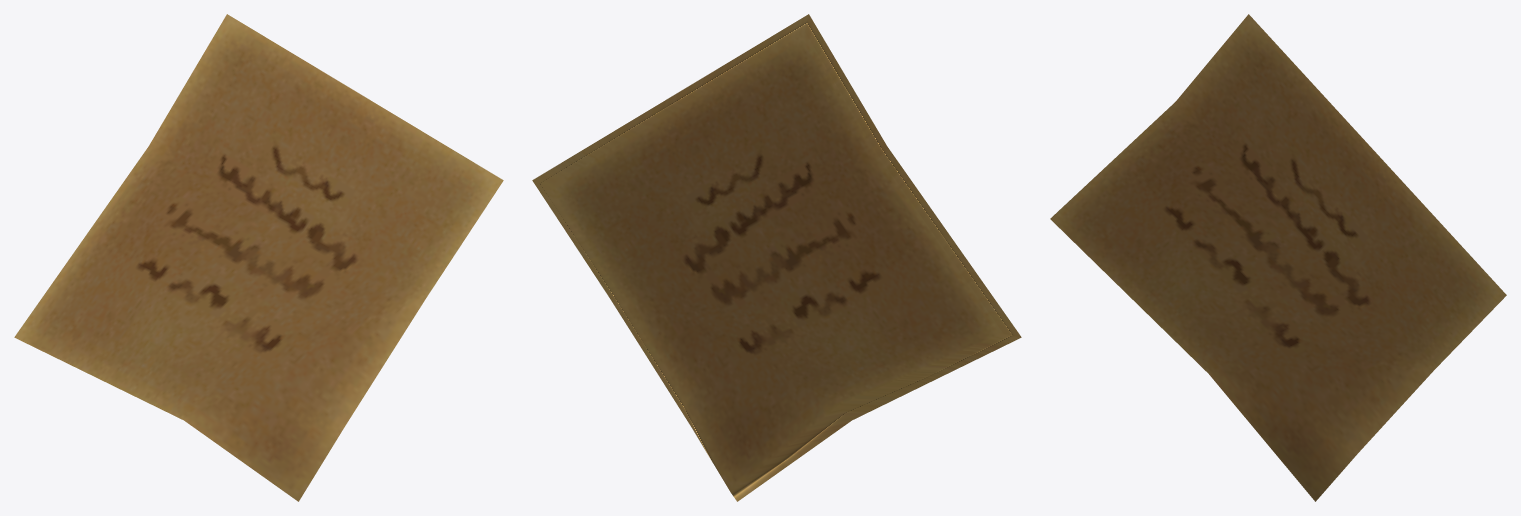
Rendered from PaperB.FBX.
The picture shows the model from 3 angles, left to right: view 1: azimuth 30°, elevation 25°; view 2: azimuth 150°, elevation 25°; view 3: azimuth 330°, elevation 25°; orthographic projection. The views are drawn at different scales.
Visible parts, largest first — view 1: pCube171__Paper00_AI; view 2: pCube171__Paper00_AI; view 3: pCube171__Paper00_AI.
Boxes of the visible parts, left/top/right/bottom form: pCube171__Paper00_AI: left=14, top=14, right=503, bottom=501; pCube171__Paper00_AI: left=532, top=14, right=1021, bottom=501; pCube171__Paper00_AI: left=1050, top=14, right=1506, bottom=501.
Size of the model in its own units: 182 by 179 by 6.12.
